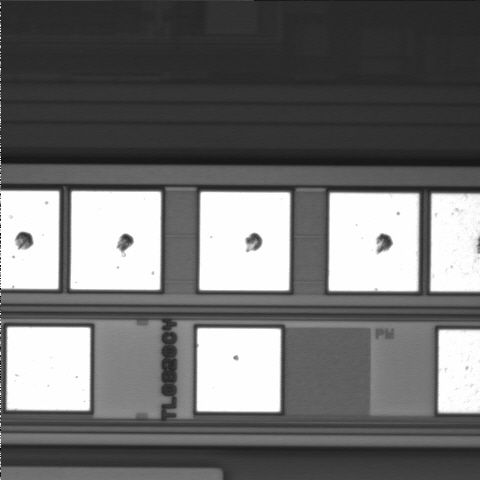pad: (199, 192, 290, 291), (71, 191, 161, 290), (329, 193, 419, 291), (197, 328, 281, 412), (7, 327, 90, 410)
